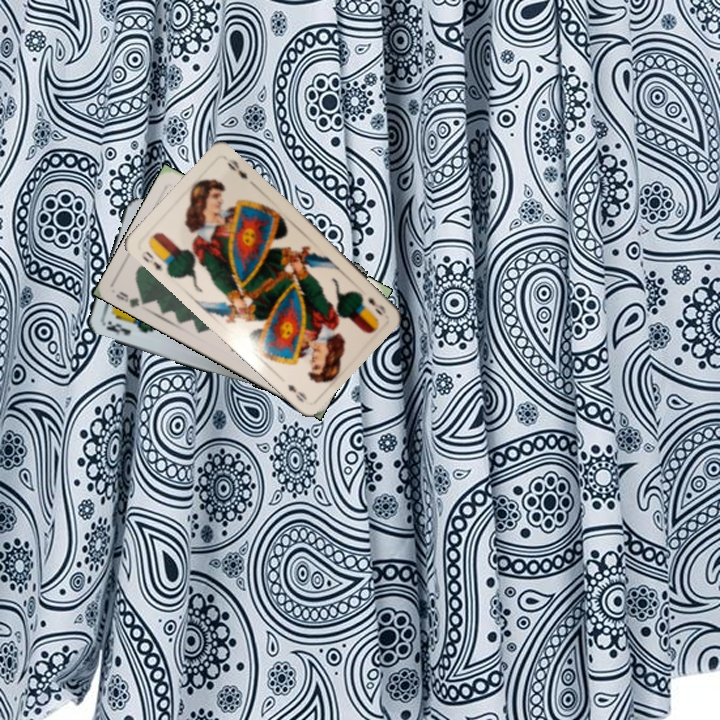EK: (102, 317, 133, 338)
EO: (140, 245, 171, 274), (364, 293, 389, 317)
G9: (112, 287, 151, 310)
